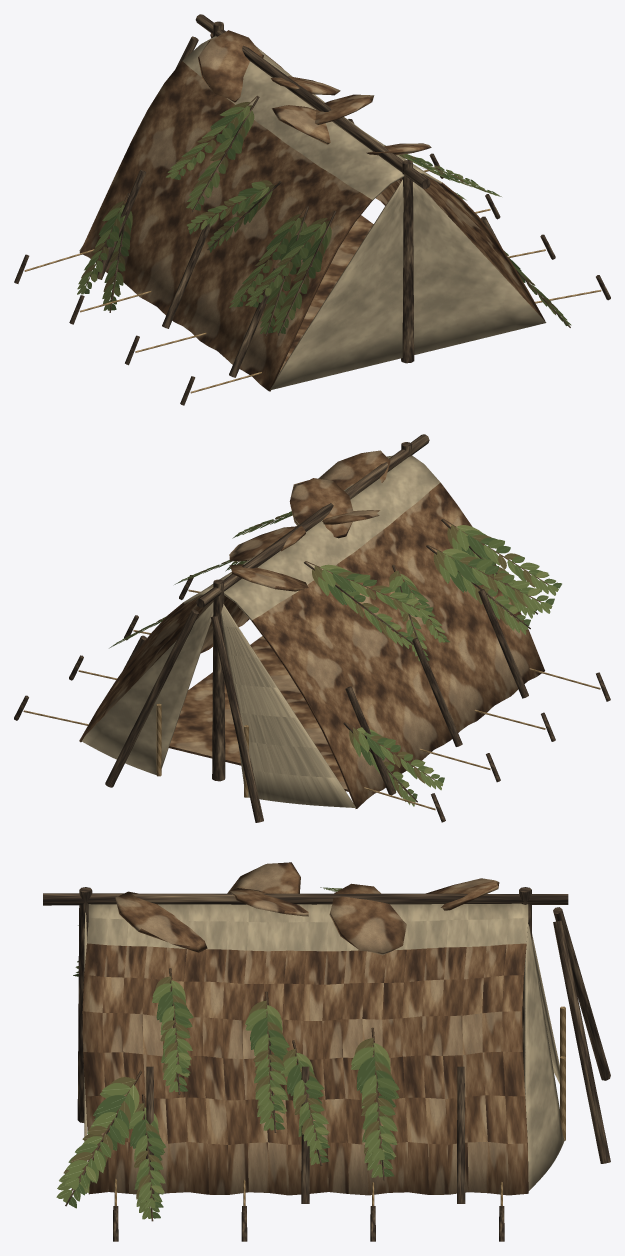
Rendered from tenda_pelli.gltf.
The picture shows the model from 3 angles, top to bottom: view 1: azimuth 30°, elevation 25°; view 2: azimuth 150°, elevation 25°; view 3: azimuth 270°, elevation 25°; orthographic projection. The views are drawn at different scales.
Visible parts, largest first — view 1: tenda_pelli; view 2: tenda_pelli; view 3: tenda_pelli.
Part boxes in pixels (x1,y1,x2,y2): tenda_pelli: (14,14,610,405); tenda_pelli: (14,434,610,822); tenda_pelli: (43,862,610,1241).
Size of the model in its own units: 5.41 by 2.85 by 5.57.
5 materials, 5 textured.
